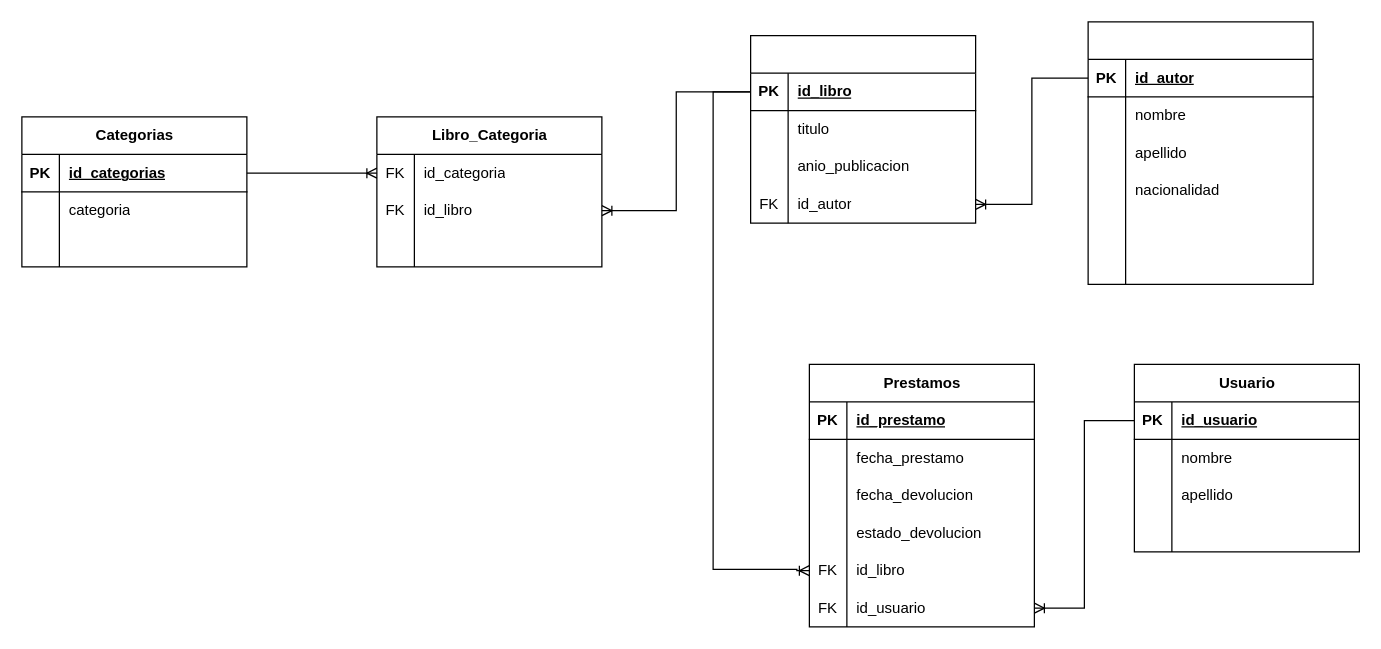
The diagram is 1381 pixels wide and 649 high, and some of its shapes have lost their labels. The box of each missing label's shape, as (x1, y1, x2, y2) in pixels:
Autores: (1087, 21, 1313, 284)
Libros: (749, 34, 976, 223)
